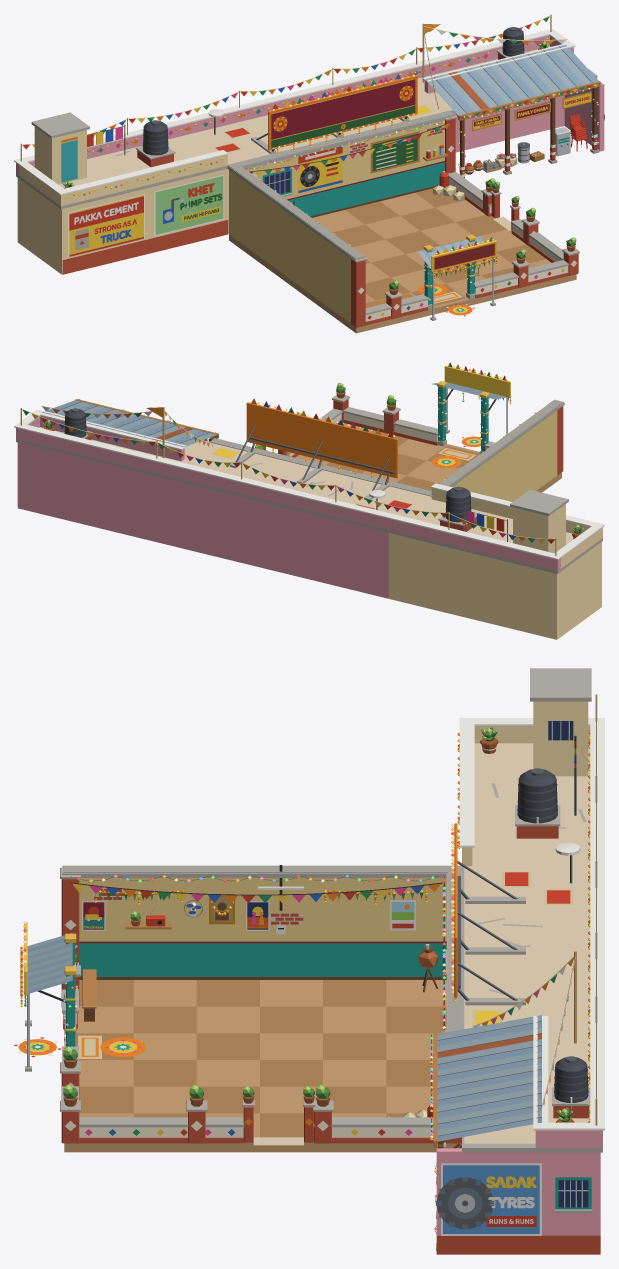
The model's file is dhaba_v3.glb.
3 renders of one model, top to bottom at view 1: azimuth 30°, elevation 25°; view 2: azimuth 150°, elevation 25°; view 3: azimuth 270°, elevation 25°, orthographic. The views are drawn at different scales.
Parts seen in each view (by area): view 1: dhaba_v3; view 2: dhaba_v3; view 3: dhaba_v3.
Part boxes in pixels (box(x1,y1,x2,y2)): dhaba_v3: box(14, 14, 604, 333); dhaba_v3: box(14, 362, 604, 639); dhaba_v3: box(14, 668, 604, 1254).
Bounding box in the file's own units: 23.1 × 5.47 × 14.04.
2 materials, 1 textured.
